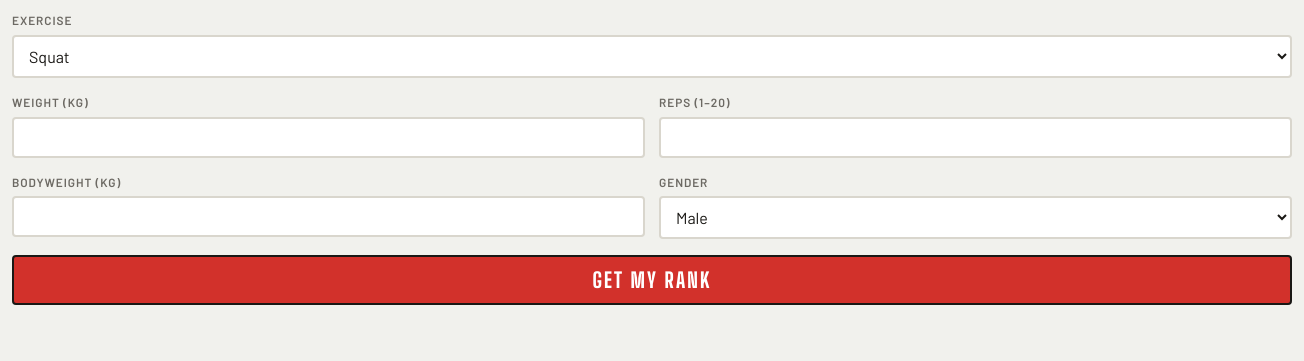
LiftForm bodyweight cap › blocks and asks the right question for a 700kg bodyweight
Select "Deadlift" in the dropdown labelled "Exercise" at (652, 56), box [12, 35, 1292, 78]
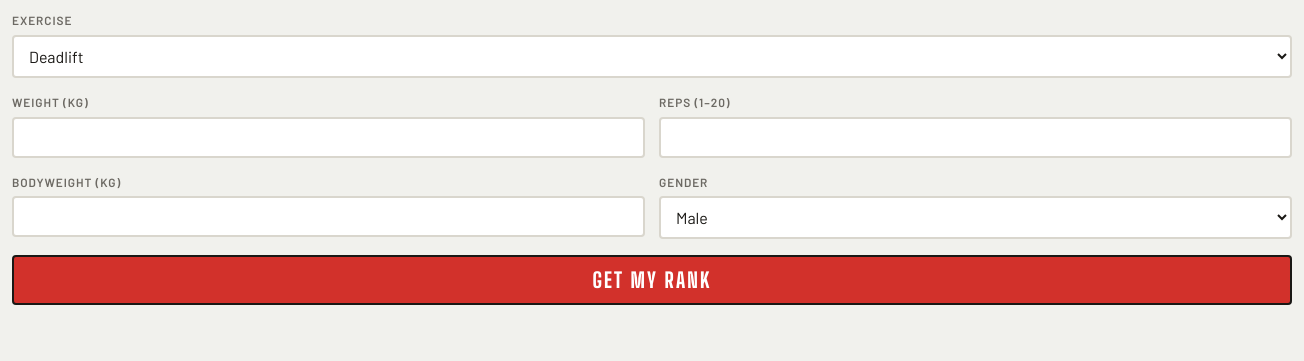
Type "100" into the number field labelled "Weight (kg)".
click(328, 137); type("100")  # box [12, 116, 645, 158]
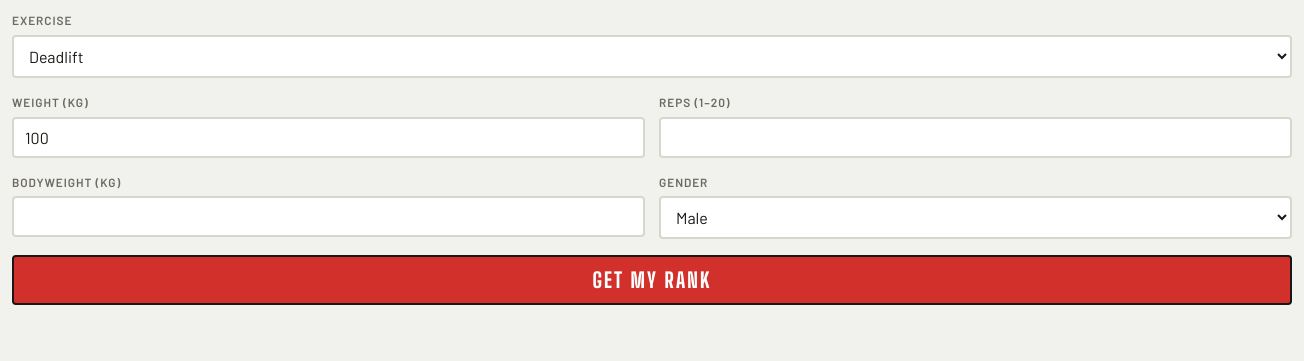
Type "700" into the number field labelled "Bodyweight (kg)".
click(328, 217); type("700")  # box [12, 196, 645, 237]
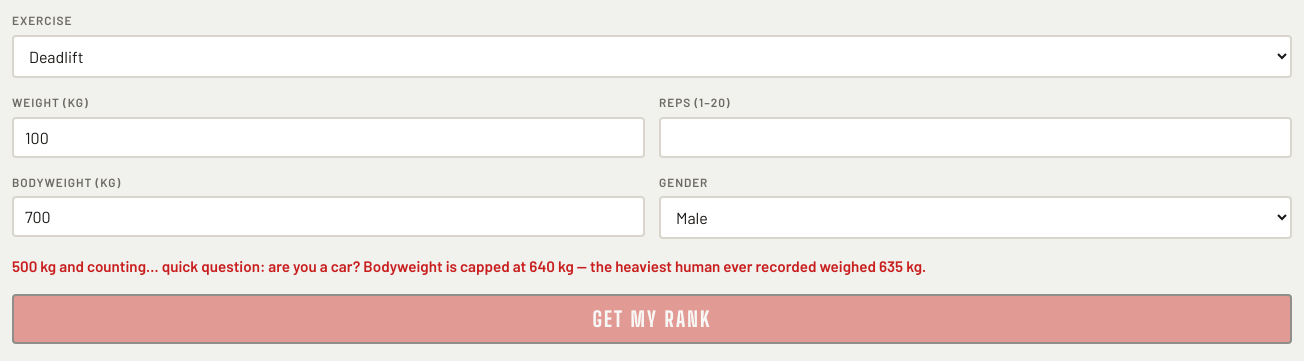
Expected: the message shows "are you a car?", [12, 257, 360, 275]
Expected: the message shows "capped at 640 kg", [12, 257, 926, 275]
Expected: the button "Get my rank" is disabled, [12, 294, 1292, 344]
